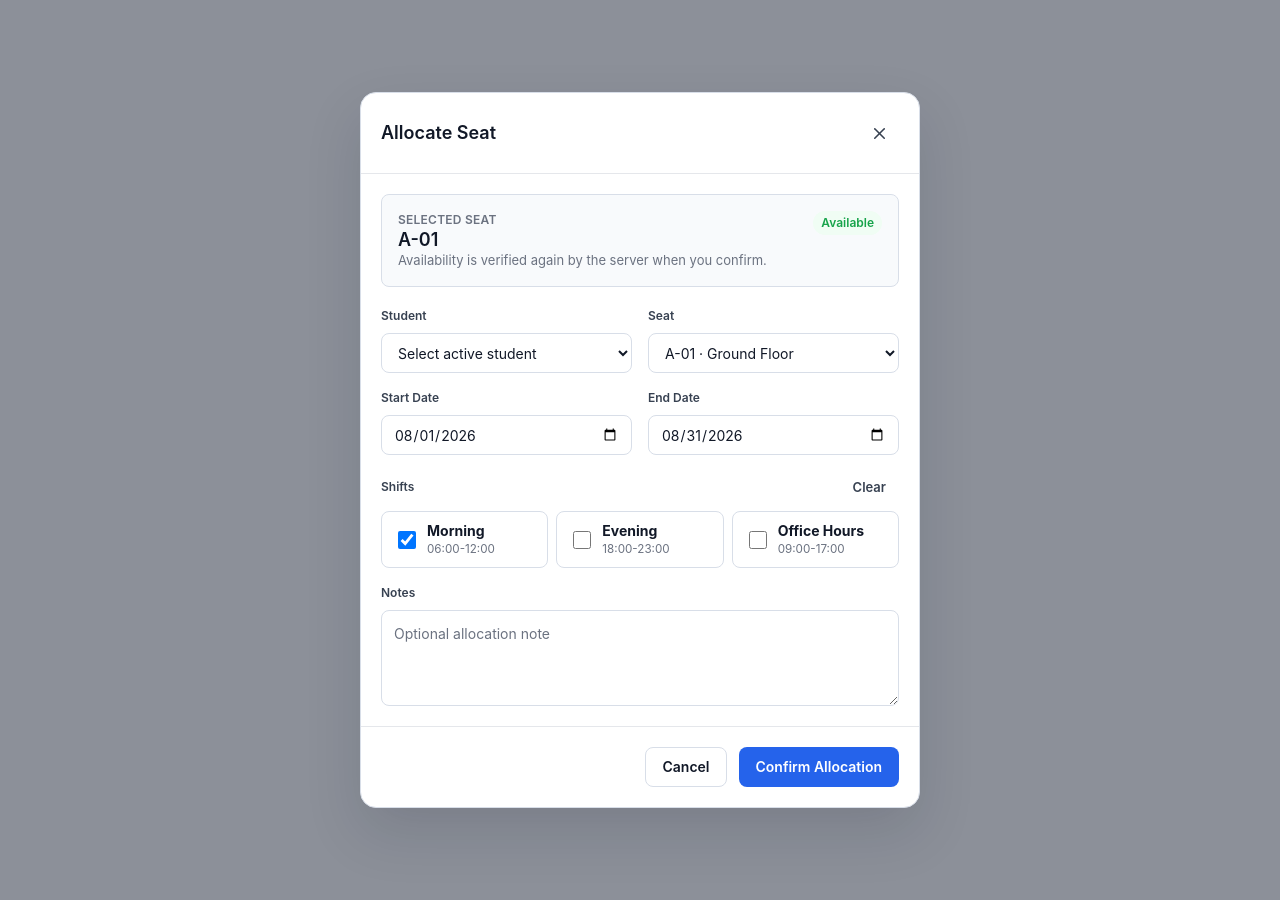
Test: SeatAllocationDialog › detects overlapping shifts before submission
Select "Aarav Sharma (STU-001)" in the dropdown with id "allocation-student": (506, 353) [381,333,632,373]
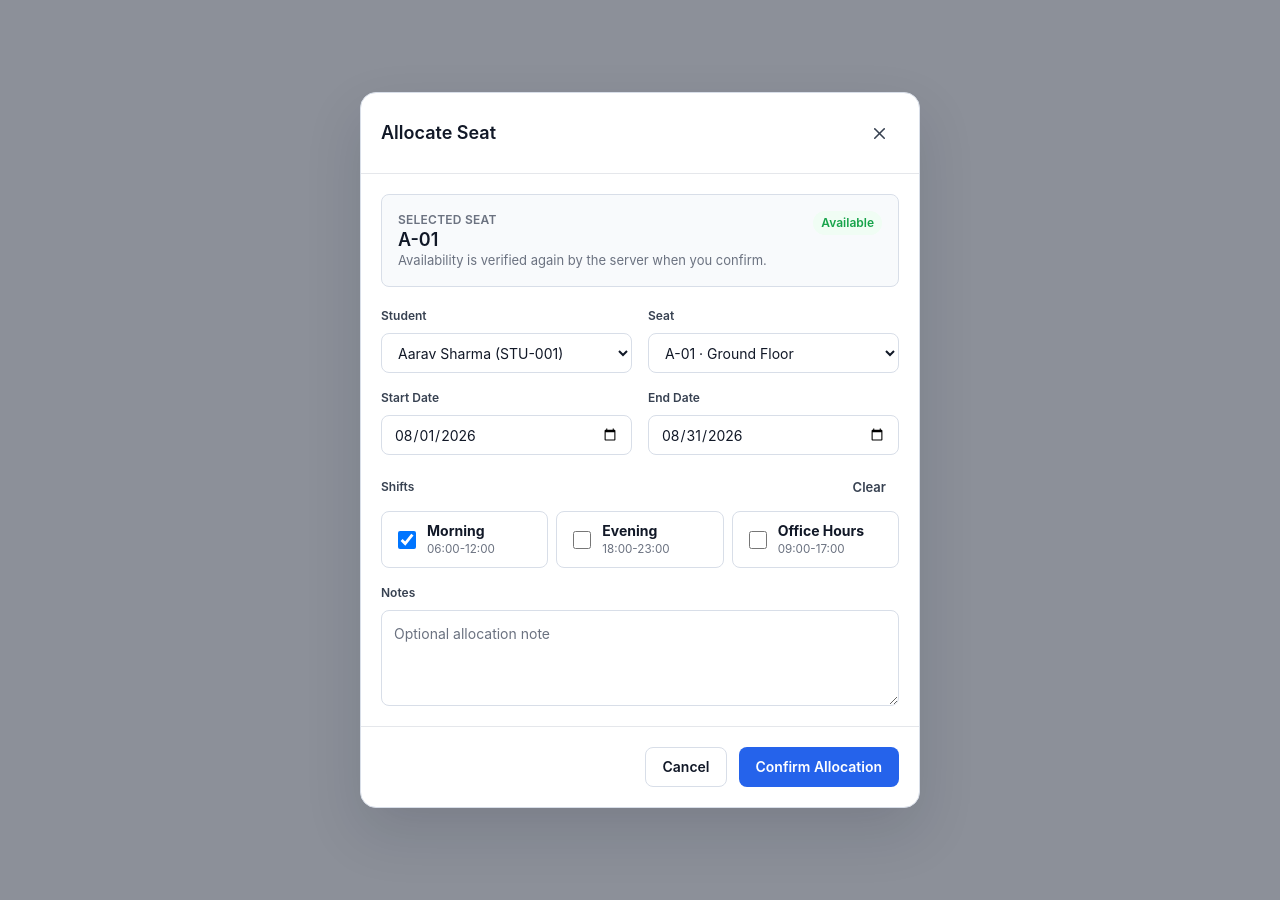
Click the checkbox labelled "Office Hours 09:00-17:00": click(758, 540) [749,530,767,548]
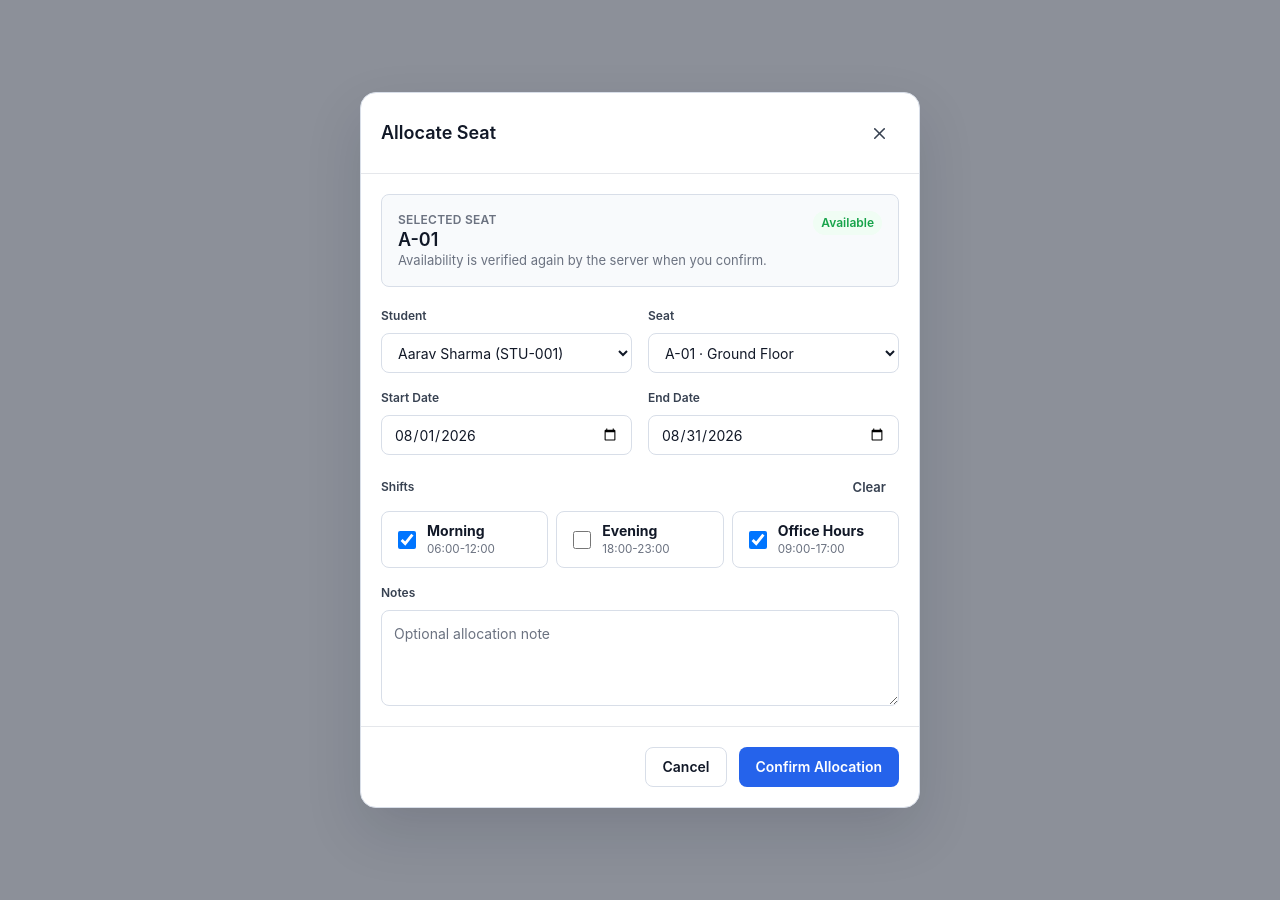
Click the button with class "btn--primary": click(819, 767) [738,747,899,787]
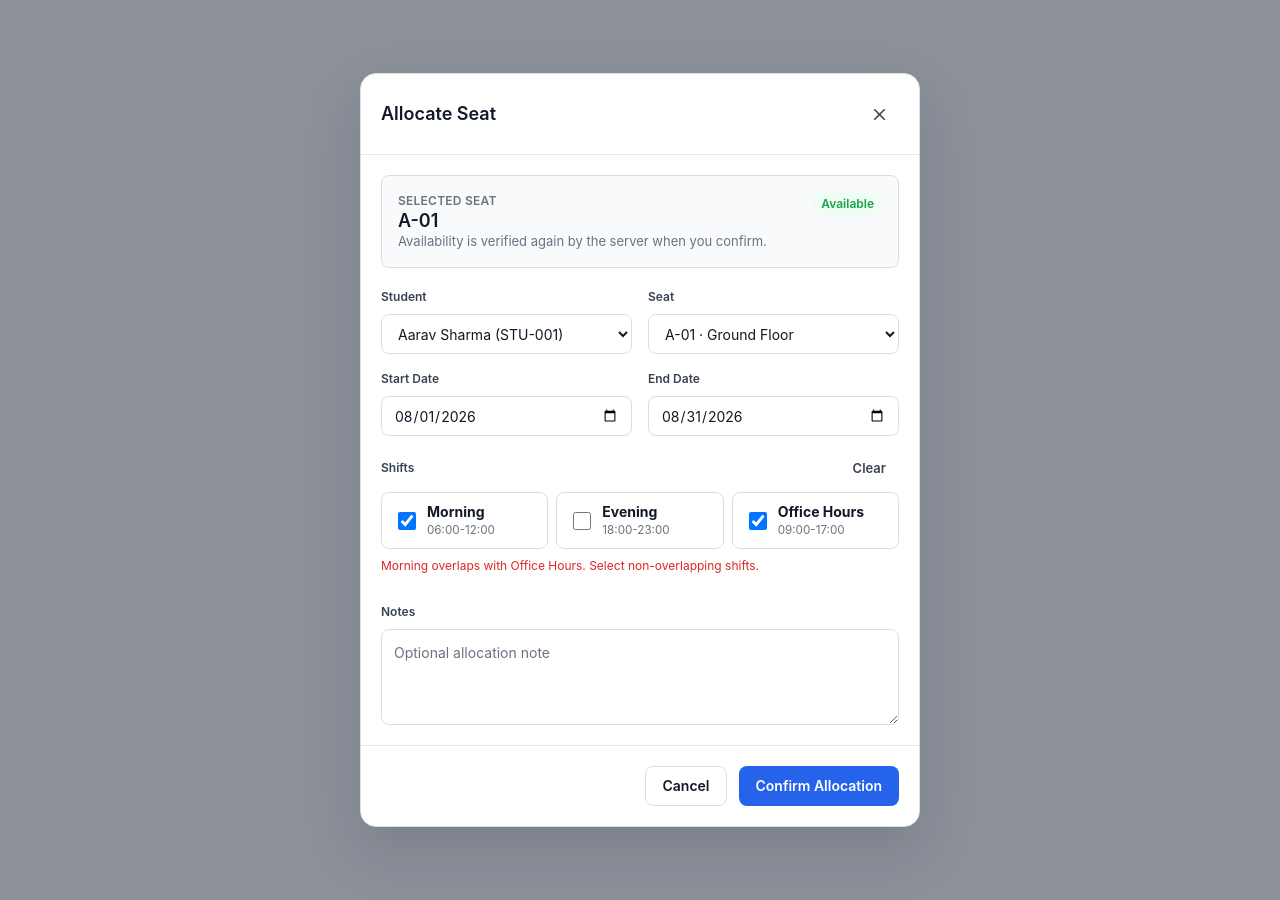
Check: the text "Morning overlaps with Office Hours" is shown, box [381,558,759,573]
